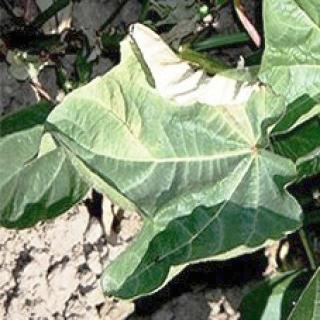wilt: (51, 78, 295, 268)
